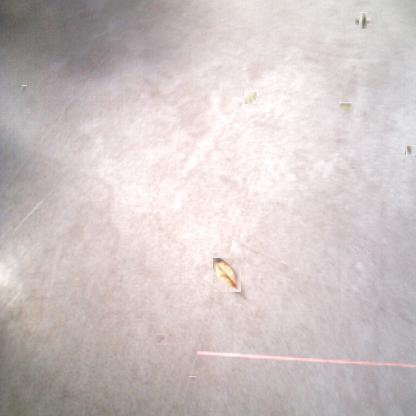dirty: (213, 258, 241, 292), (244, 91, 257, 105), (357, 15, 370, 27), (339, 102, 353, 113), (406, 146, 416, 156)
mark: (156, 335, 166, 345), (21, 85, 27, 94), (189, 375, 196, 382)
